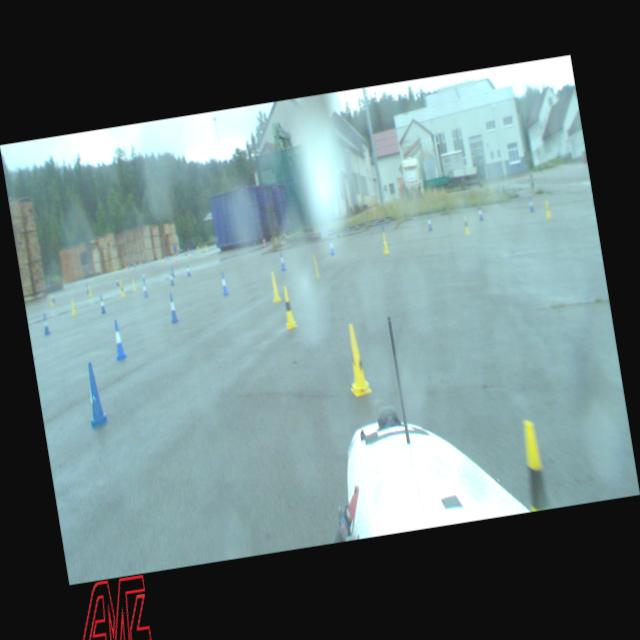blue_cone: (81, 361, 108, 426), (110, 320, 126, 360), (167, 292, 179, 324), (220, 271, 228, 296), (41, 314, 50, 335), (141, 278, 149, 298), (278, 251, 286, 271), (328, 237, 336, 256), (98, 296, 105, 314), (168, 270, 174, 286), (528, 196, 534, 212), (427, 215, 432, 231), (478, 206, 483, 220), (186, 264, 190, 276), (116, 275, 120, 286)
yellow_cone: (516, 418, 550, 510), (340, 322, 372, 398), (280, 286, 297, 328), (268, 271, 282, 302), (311, 252, 321, 278), (382, 232, 389, 255), (462, 216, 470, 233), (544, 200, 551, 218), (70, 298, 76, 316), (119, 280, 124, 296), (132, 278, 136, 291), (88, 284, 92, 296)
